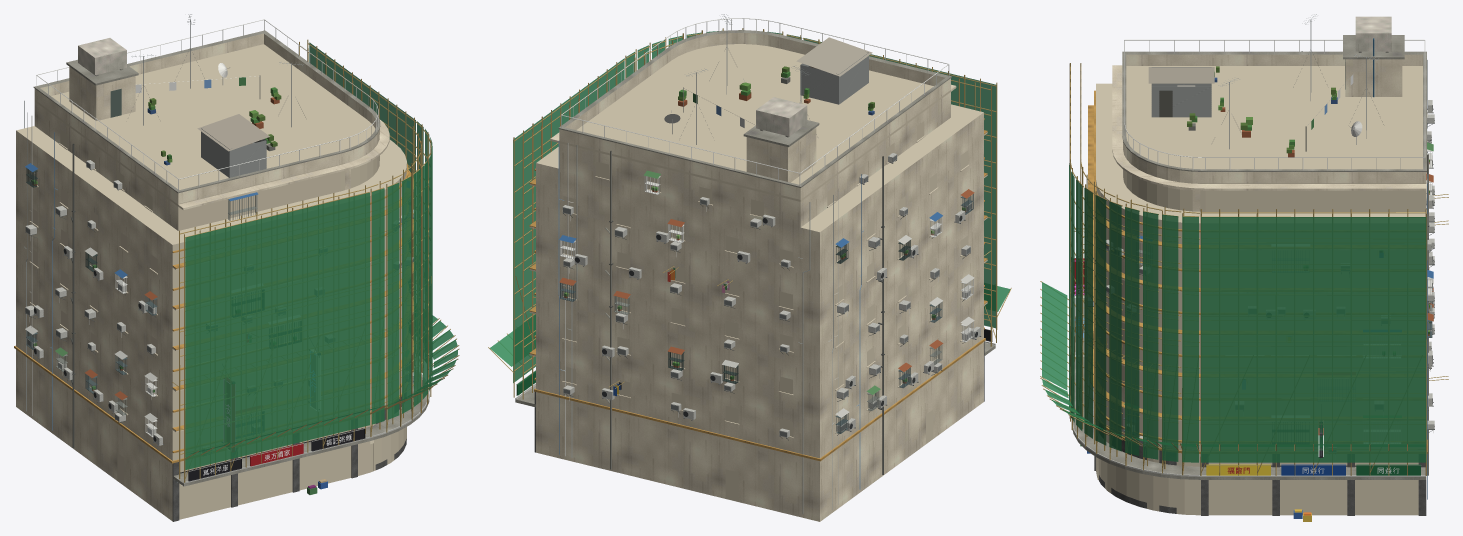
Rendered from moderne-corner.glb.
3 views of the same model, side by side, from view 1: azimuth 30°, elevation 25°; view 2: azimuth 150°, elevation 25°; view 3: azimuth 270°, elevation 25° (orthographic). The views are drawn at different scales.
Parts seen in each view (by area): view 1: Scaffold_net, Building_wall, LOD_vc, Scaffold_bamboo, Building_metal, Building_vc, Building_slab, Building_ac, Building_tin, Building_board, Building_trim, Building_granite (+1 smaller); view 2: Building_wall, LOD_vc, Scaffold_net, Building_vc, Building_metal, Scaffold_bamboo, Building_ac, Building_slab, Building_tin, Building_trim, Building_tank; view 3: Scaffold_net, LOD_vc, Building_wall, Building_slab, Scaffold_bamboo, Building_metal, Building_vc, Building_board, Building_trim, Building_granite, Building_tin, Building_tank (+1 smaller).
Boxes of the visible parts, bbox=[...] form: Scaffold_net: bbox=[185, 42, 457, 469]; Building_wall: bbox=[16, 33, 413, 521]; LOD_vc: bbox=[16, 44, 406, 519]; Scaffold_bamboo: bbox=[172, 39, 459, 482]; Building_metal: bbox=[25, 14, 429, 483]; Building_vc: bbox=[24, 63, 327, 494]; Building_slab: bbox=[33, 30, 429, 486]; Building_ac: bbox=[25, 160, 413, 445]; Building_tin: bbox=[201, 128, 266, 177]; Building_board: bbox=[188, 428, 365, 481]; Building_trim: bbox=[14, 163, 413, 463]; Building_granite: bbox=[172, 396, 406, 521]; Building_wall: bbox=[529, 32, 987, 521]; LOD_vc: bbox=[536, 44, 983, 501]; Scaffold_net: bbox=[490, 30, 1010, 382]; Building_vc: bbox=[558, 37, 974, 513]; Building_metal: bbox=[515, 14, 995, 440]; Scaffold_bamboo: bbox=[488, 28, 1011, 399]; Building_ac: bbox=[562, 153, 980, 437]; Building_slab: bbox=[515, 30, 995, 407]; Building_tin: bbox=[800, 52, 868, 104]; Building_trim: bbox=[529, 118, 987, 461]; Building_tank: bbox=[756, 97, 807, 136]; Scaffold_net: bbox=[1042, 163, 1426, 462]; LOD_vc: bbox=[1096, 66, 1426, 515]; Building_wall: bbox=[1093, 54, 1427, 485]; Building_slab: bbox=[1072, 35, 1426, 479]; Scaffold_bamboo: bbox=[1040, 63, 1427, 475]; Building_metal: bbox=[1073, 14, 1434, 476]; Building_vc: bbox=[1080, 38, 1433, 521]; Building_board: bbox=[1071, 258, 1420, 475]; Building_trim: bbox=[1088, 90, 1427, 453]; Building_granite: bbox=[1094, 440, 1426, 515]; Building_tin: bbox=[1151, 67, 1211, 117]; Building_tank: bbox=[1355, 16, 1391, 51].
Size of the model in its own units: 26.29 by 28.95 by 27.22.
23 materials, 9 textured.
